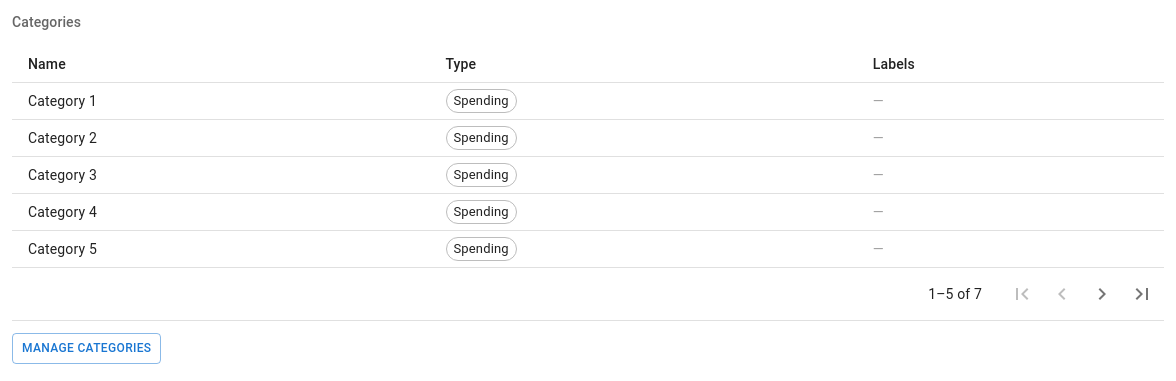
Test: HouseholdCategoriesSection pagination › advances to the next page and back
expect the text "Category 5" is shown: met, box 12,230 -> 430,268
Step 1. Click the button named "next page" → point(1102, 294), box 1082,274 -> 1122,314
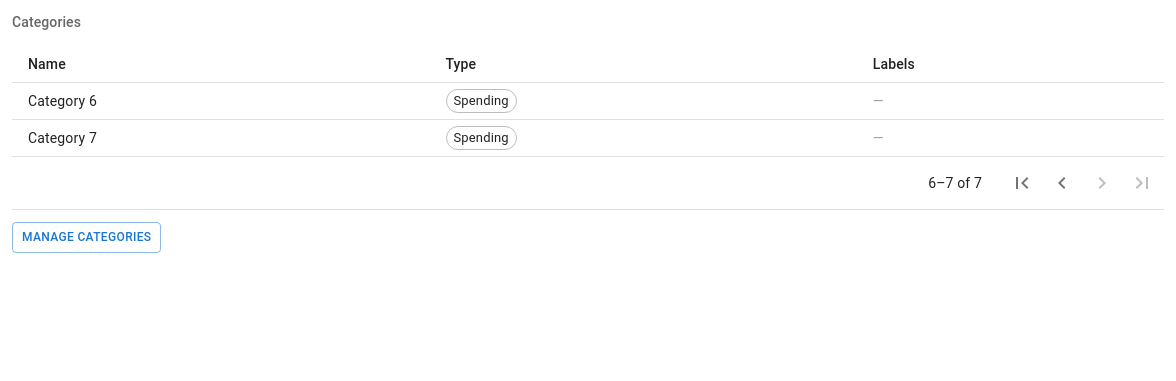
expect the text "Category 1" is gone: met
expect the text "Category 6" is shown: met, box 12,82 -> 430,120
expect the text "Category 7" is shown: met, box 12,120 -> 430,156
Step 2. Click the button named "previous page" → point(1062, 183), box 1042,163 -> 1082,203
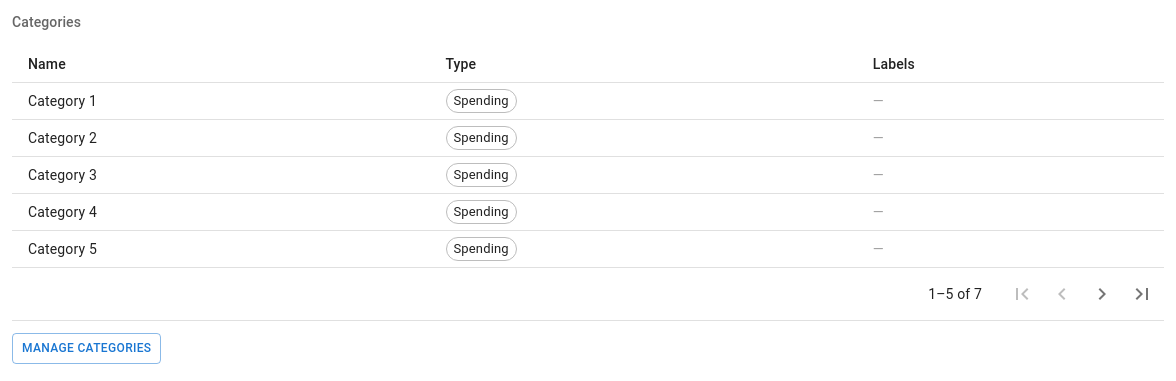
expect the text "Category 1" is shown: met, box 12,82 -> 430,120
expect the text "Category 6" is gone: met
